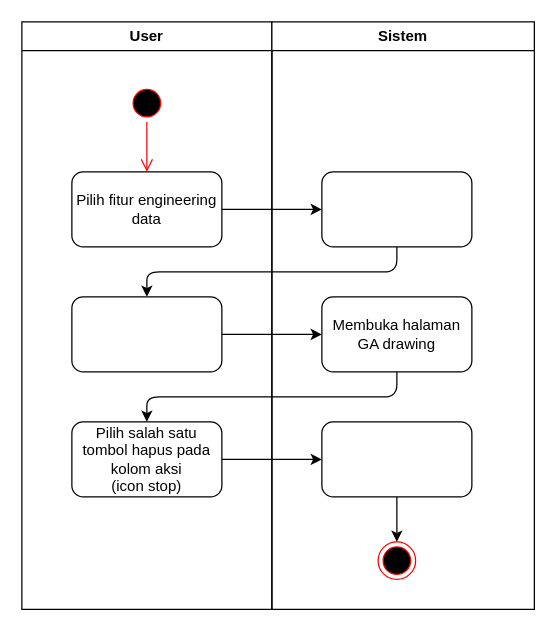
Some shapes in this 556 by 631 pixel diagram are drawn without their labels. Here are the shapes that lost their labels. From the top down, the centre of each, then its label:
At (396,209): "Membuka halaman engineering data".
At (146,334): "Pilih salah satu data dengan tekan (icon eye) pada kolom GA drawing".
At (396,459): "Perubahan data berhasil tersimpan".
